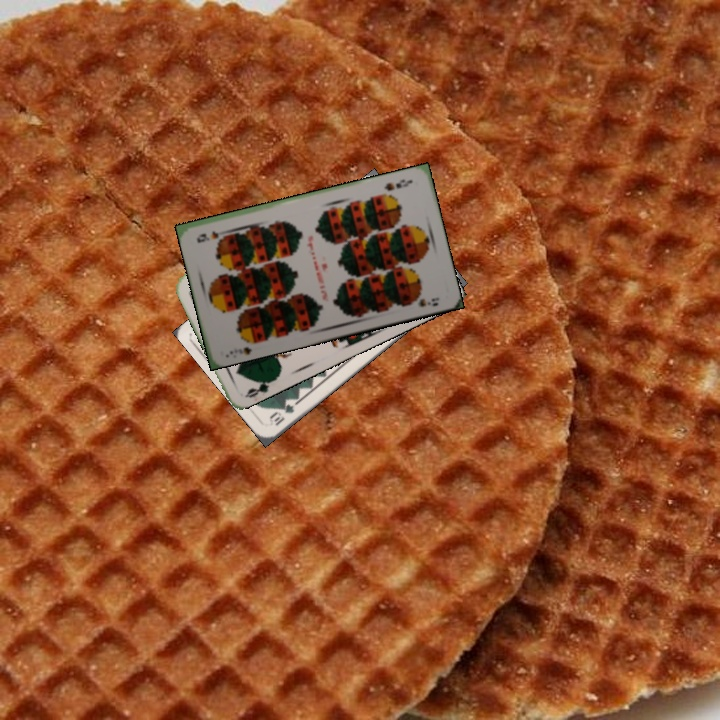G10: (266, 400, 297, 428)
GO: (242, 375, 279, 400)
S9: (380, 175, 415, 193), (225, 343, 255, 357)
